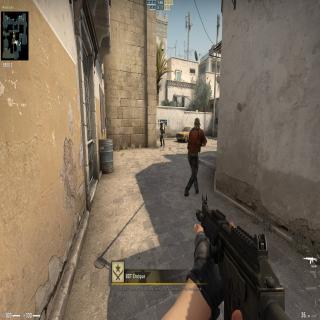CT-Head: (160, 120, 163, 126)
T-Head: (194, 118, 200, 129)
